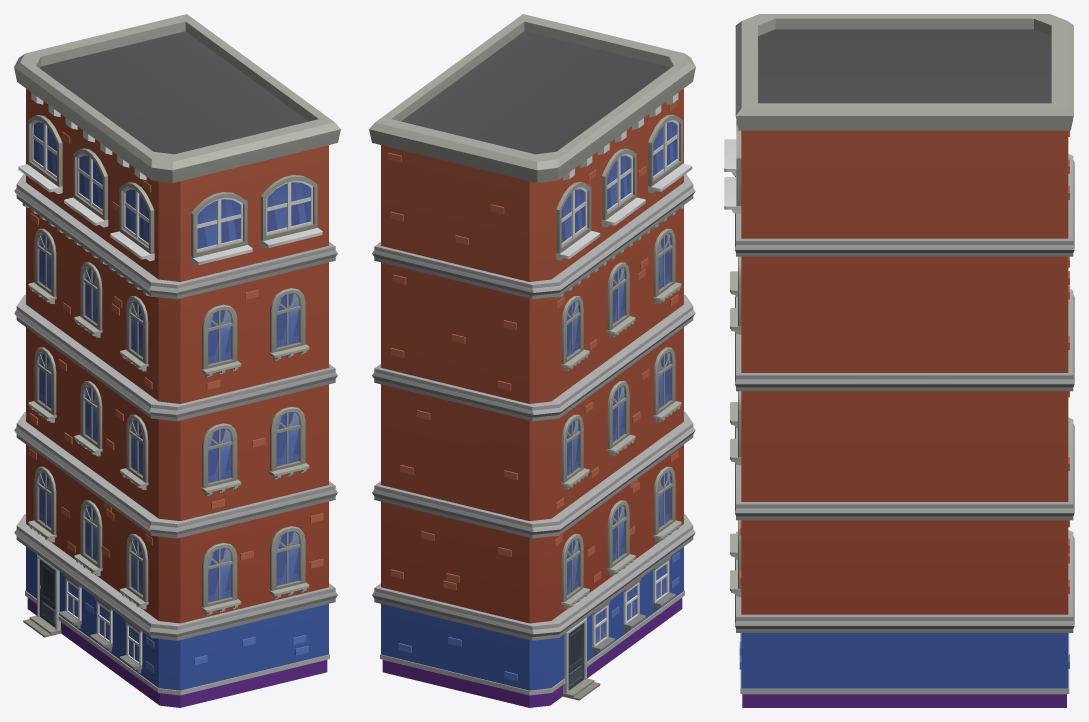
The model's file is Building_18_1_G.glb.
3 views of the same model, side by side, from view 1: azimuth 30°, elevation 25°; view 2: azimuth 150°, elevation 25°; view 3: azimuth 270°, elevation 25° (orthographic). The views are drawn at different scales.
Parts seen in each view (by area): view 1: Building_18_1_G; view 2: Building_18_1_G; view 3: Building_18_1_G.
Part boxes in pixels (left/top/right/bottom): Building_18_1_G: left=14, top=14, right=340, bottom=707; Building_18_1_G: left=369, top=14, right=695, bottom=707; Building_18_1_G: left=724, top=14, right=1074, bottom=707.
Size of the model in its own units: 7.19 by 20.14 by 10.59.
Materials: 3 (3 with a texture image).
